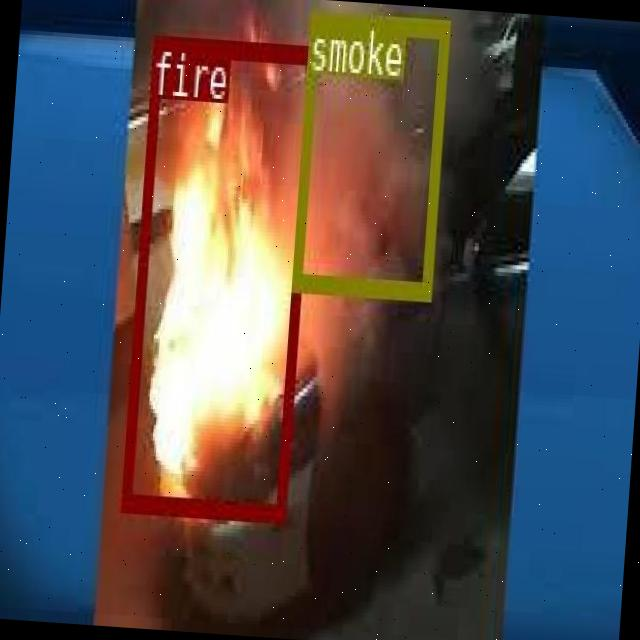fire: (120, 35, 316, 519)
smoke: (292, 6, 448, 298)
